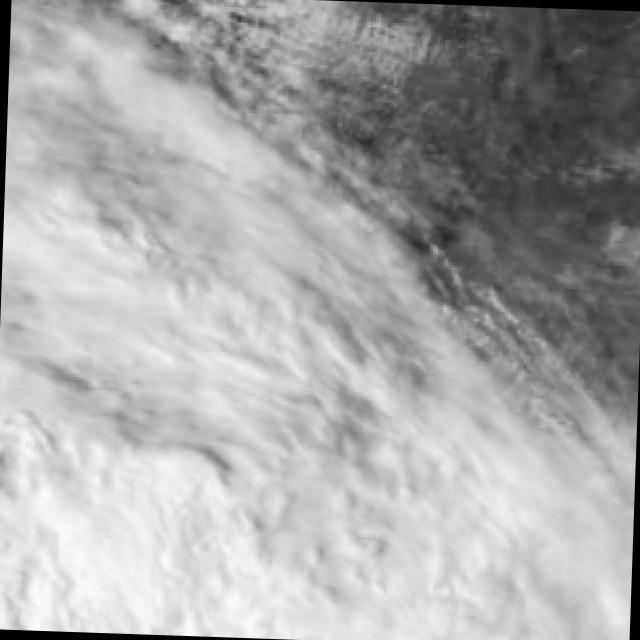CB: (45, 522, 208, 633)
